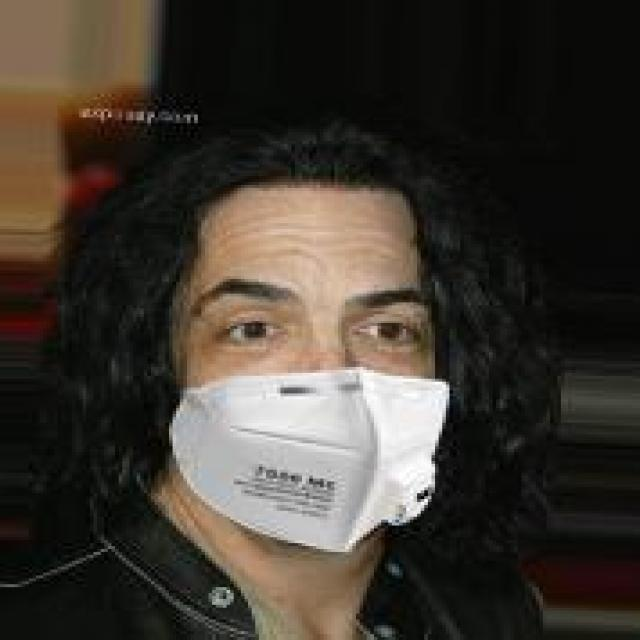mask: (104, 115, 496, 587)
